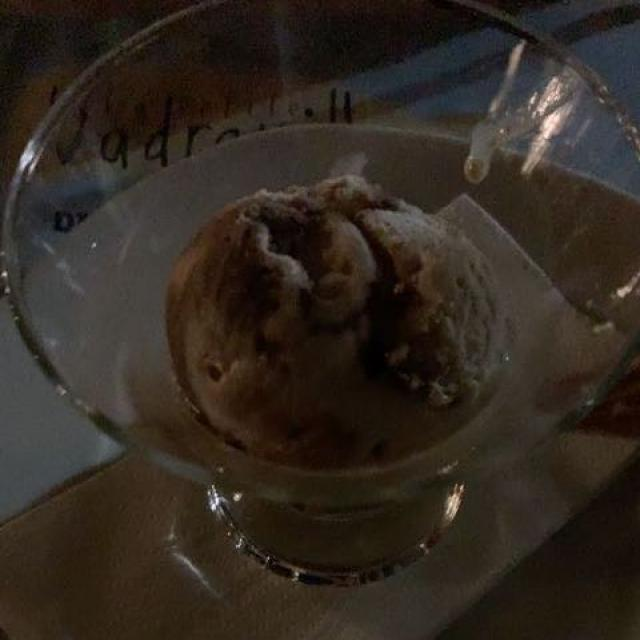ice-cream: (165, 178, 494, 463)
